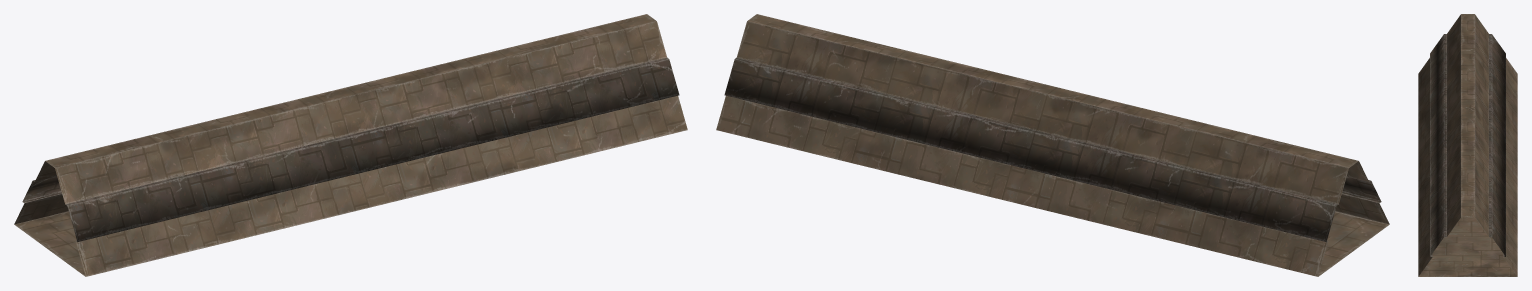
File: Pasillo.fbx
The picture shows the model from 3 angles, left to right: view 1: azimuth 30°, elevation 25°; view 2: azimuth 150°, elevation 25°; view 3: azimuth 270°, elevation 25°; orthographic projection. The views are drawn at different scales.
Visible parts, largest first — view 1: pasillo 1 low; view 2: pasillo 1 low; view 3: pasillo 1 low.
Part boxes in pixels (x1,y1,x2,y2): pasillo 1 low: (14,14,687,276); pasillo 1 low: (716,14,1389,276); pasillo 1 low: (1418,14,1517,276).
Bounding box in the file's own units: 1482 × 203 × 305.
1 material, 1 textured.
